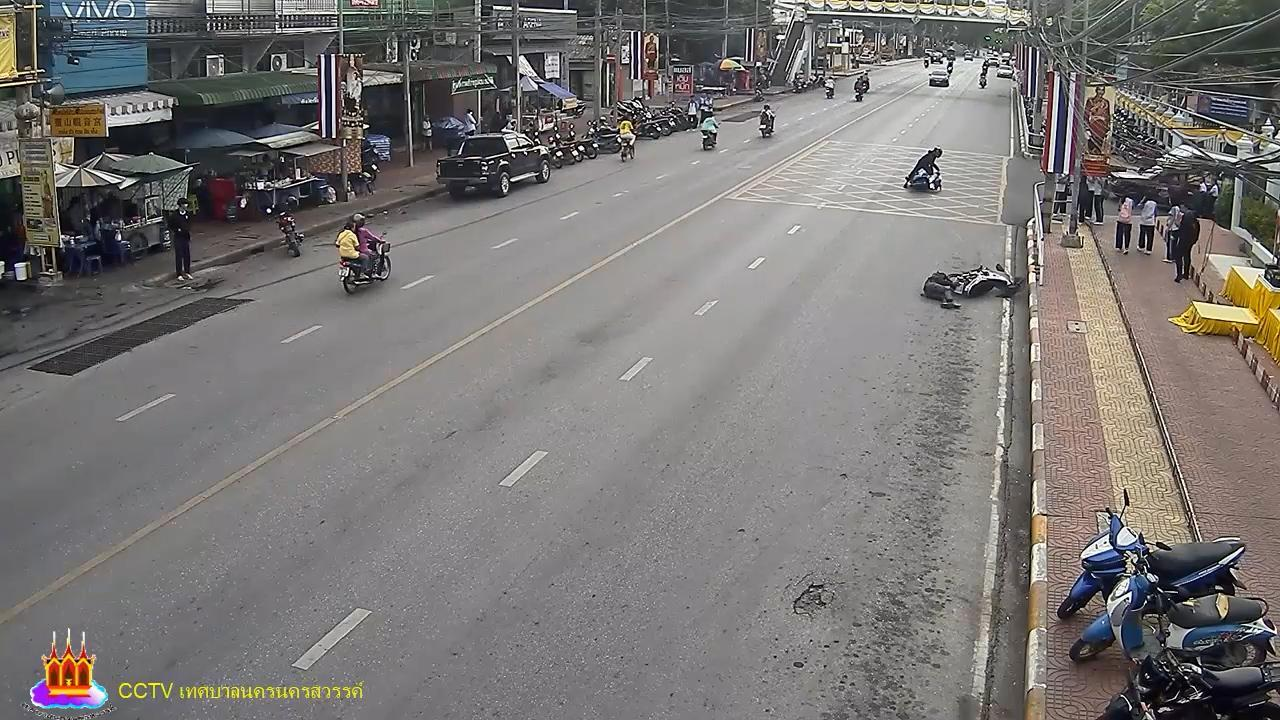accident: (919, 268, 962, 312)
